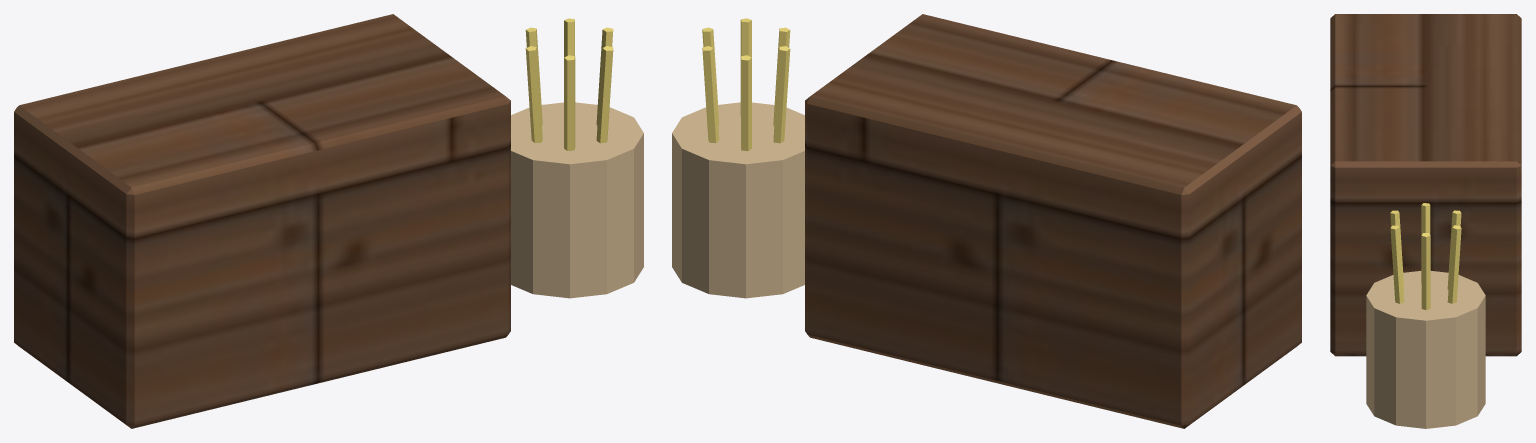
The model's file is score_stand.glb.
3 renders of one model, left to right at view 1: azimuth 30°, elevation 25°; view 2: azimuth 150°, elevation 25°; view 3: azimuth 270°, elevation 25°, orthographic. The views are drawn at different scales.
Parts seen in each view (by area): view 1: score_stand_dkwood, score_stand_basket, score_stand_flag_y; view 2: score_stand_dkwood, score_stand_basket, score_stand_flag_y; view 3: score_stand_dkwood, score_stand_basket, score_stand_flag_y.
Part boxes in pixels (x1,y1,x2,y2): score_stand_dkwood: [14, 14, 510, 428]; score_stand_basket: [511, 102, 643, 298]; score_stand_flag_y: [525, 18, 613, 150]; score_stand_dkwood: [805, 14, 1301, 428]; score_stand_basket: [672, 102, 804, 298]; score_stand_flag_y: [702, 18, 790, 150]; score_stand_dkwood: [1330, 14, 1521, 356]; score_stand_basket: [1366, 271, 1485, 428]; score_stand_flag_y: [1390, 203, 1461, 310].
Bounding box in the file's own units: 0.44 × 0.18 × 0.16.
4 materials, 1 textured.
